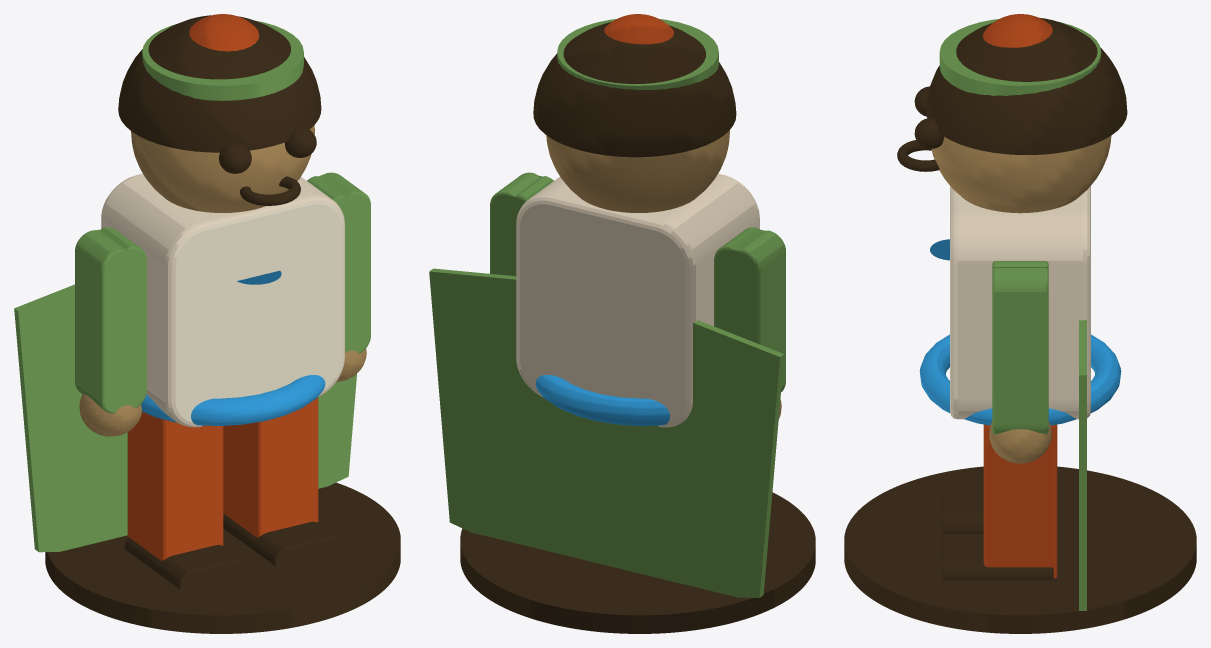
File: 1140_左传_越王句践剑.glb
The picture shows the model from 3 angles, left to right: view 1: azimuth 30°, elevation 25°; view 2: azimuth 150°, elevation 25°; view 3: azimuth 270°, elevation 25°; orthographic projection.
Visible parts, largest first — view 1: card_1140; view 2: card_1140; view 3: card_1140.
Part boxes in pixels (box(x1,y1,x2,y2)): card_1140: box(14, 14, 400, 633); card_1140: box(429, 14, 815, 633); card_1140: box(844, 14, 1196, 633).
Bounding box in the file's own units: 0.6649 × 1 × 0.5788.
